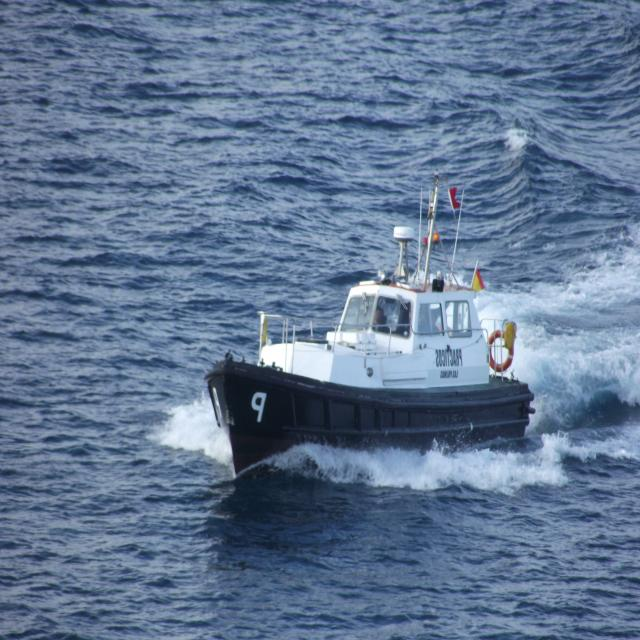houseboat: (217, 214, 543, 478)
